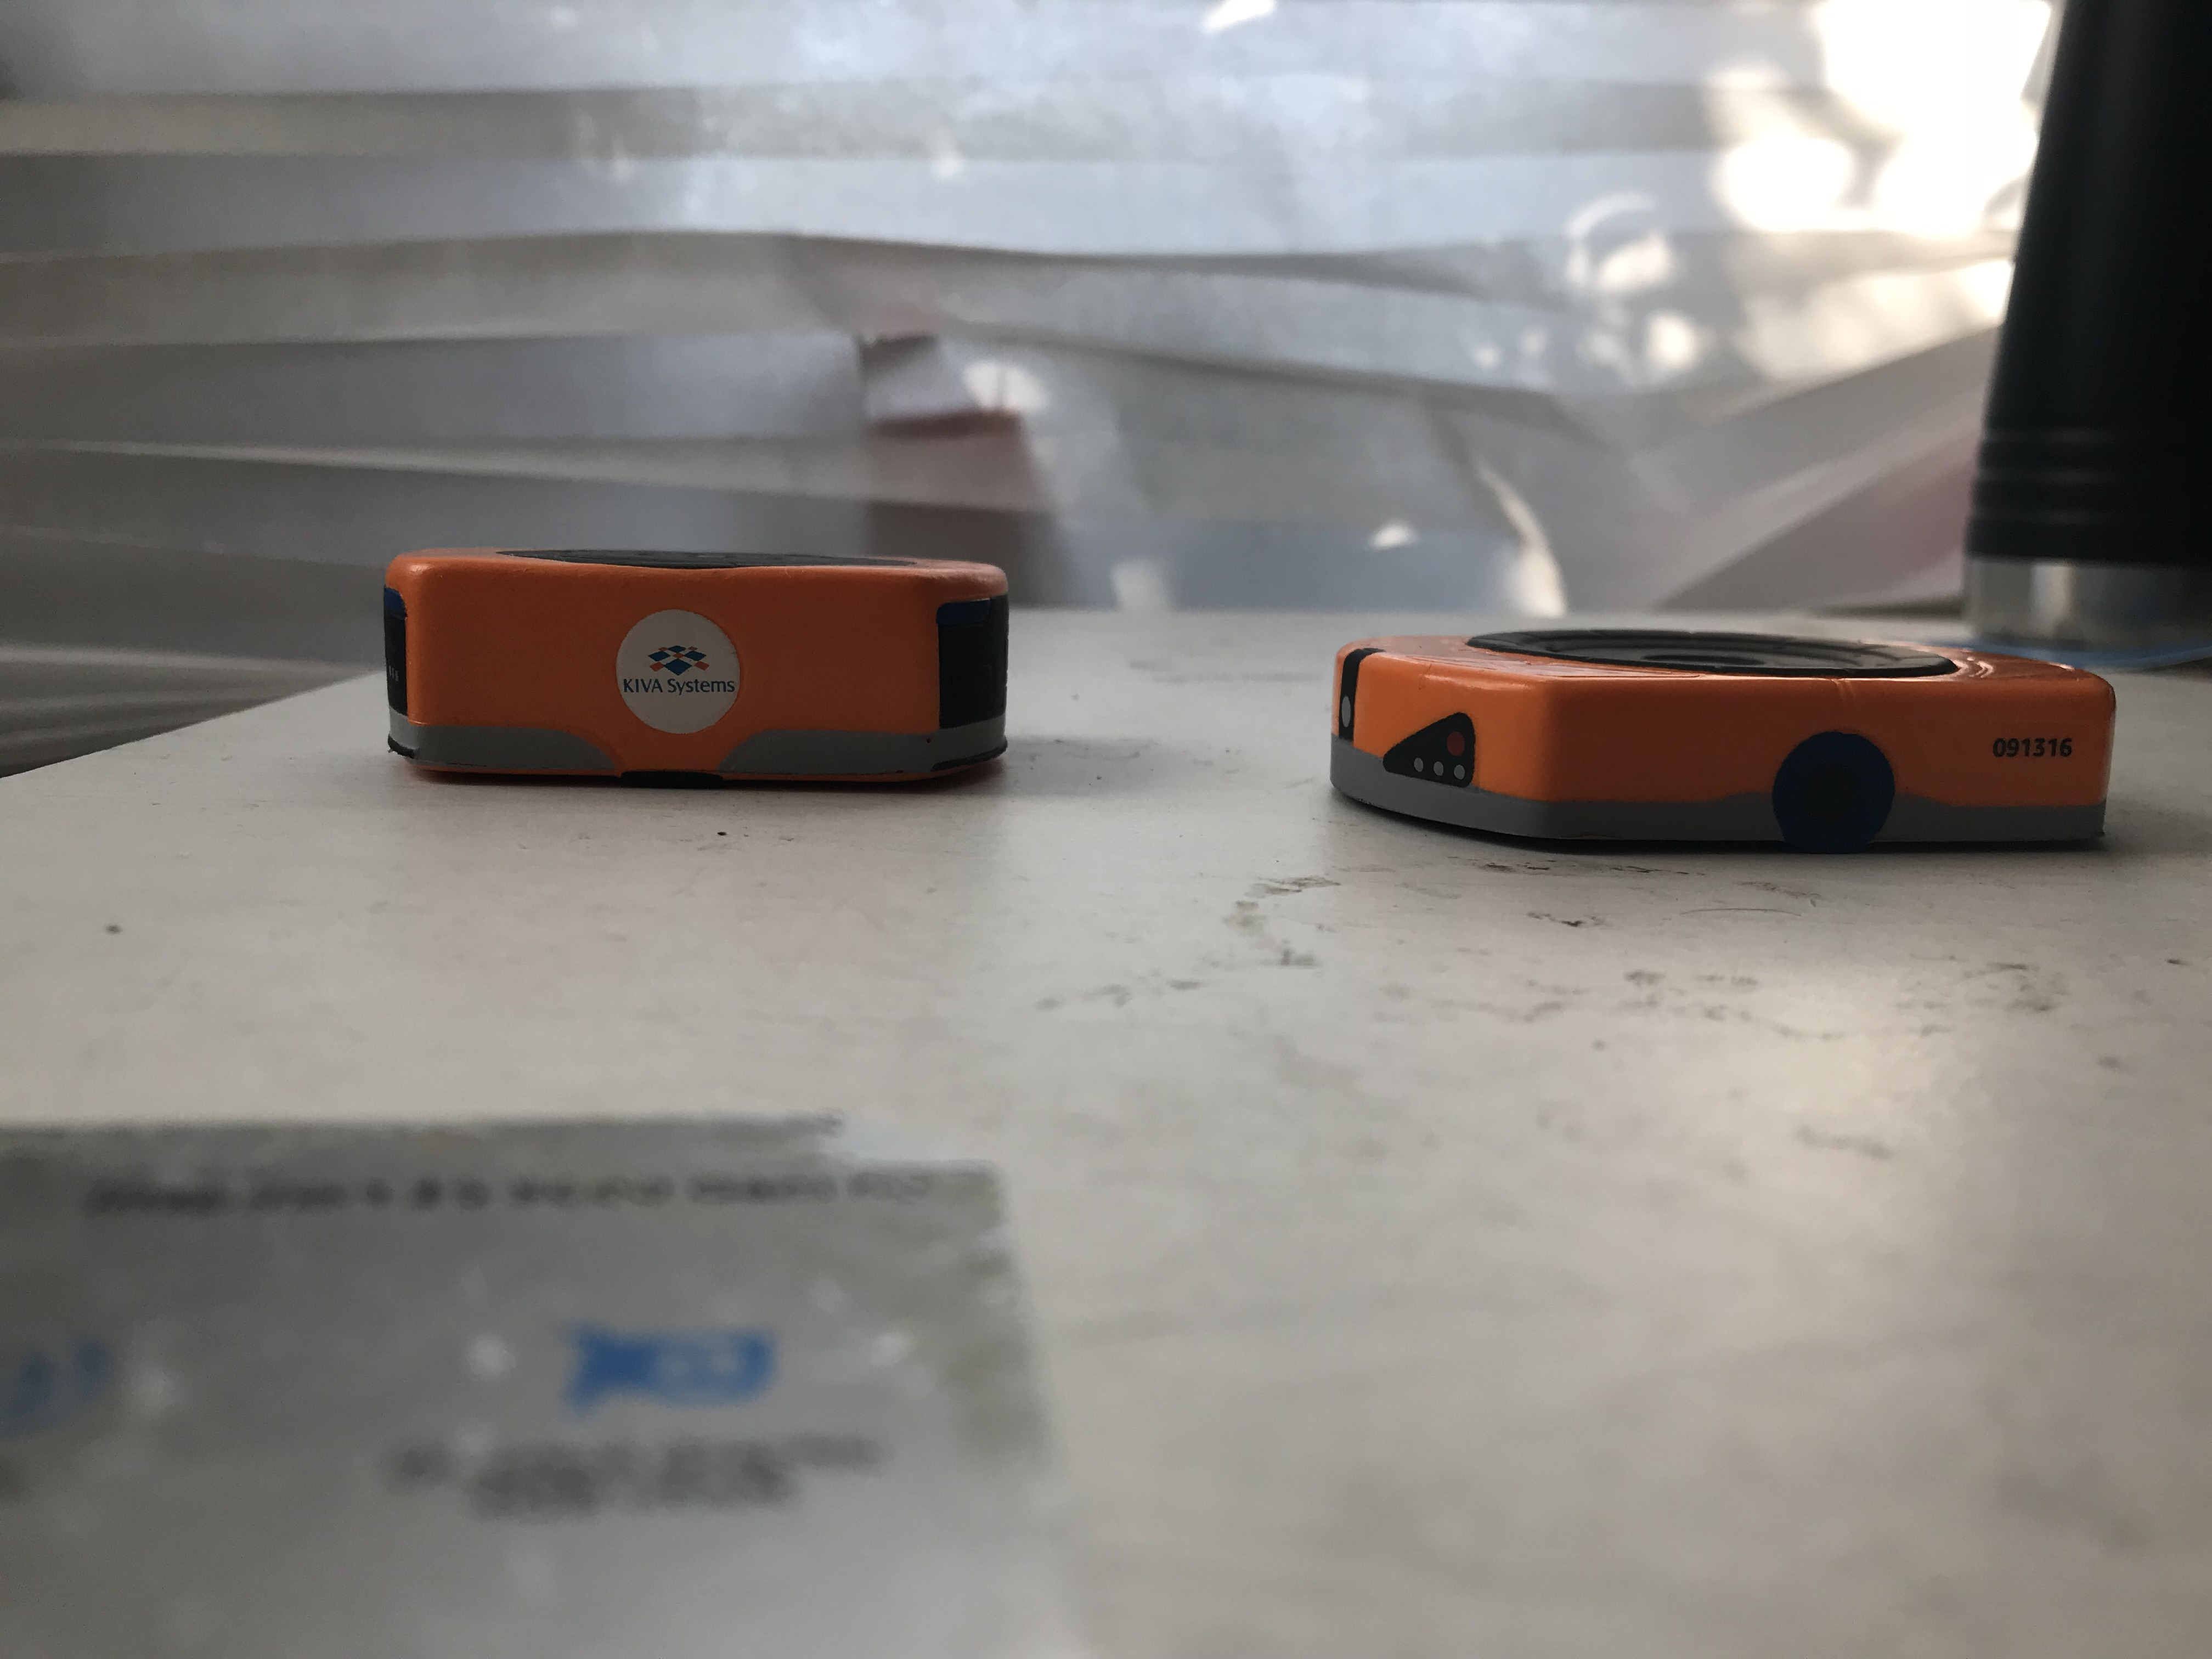amazon_bot: (1289, 605, 2148, 875), (333, 530, 1038, 800)
